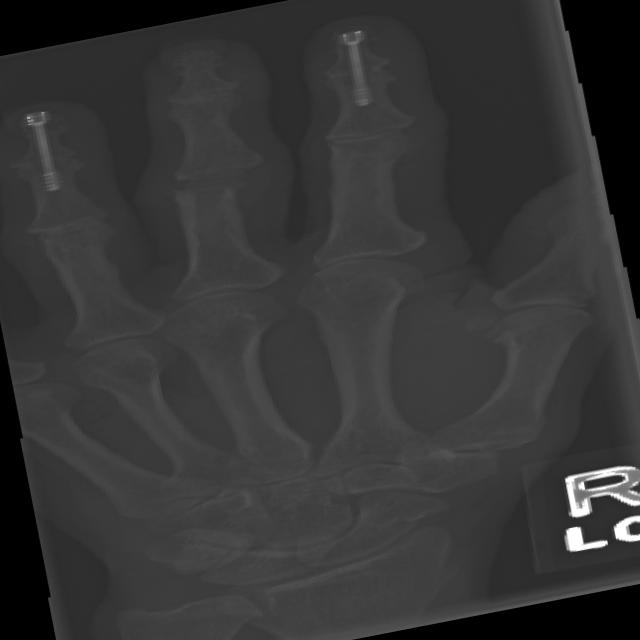fingers positive: (152, 165, 278, 216), (7, 145, 104, 206)
